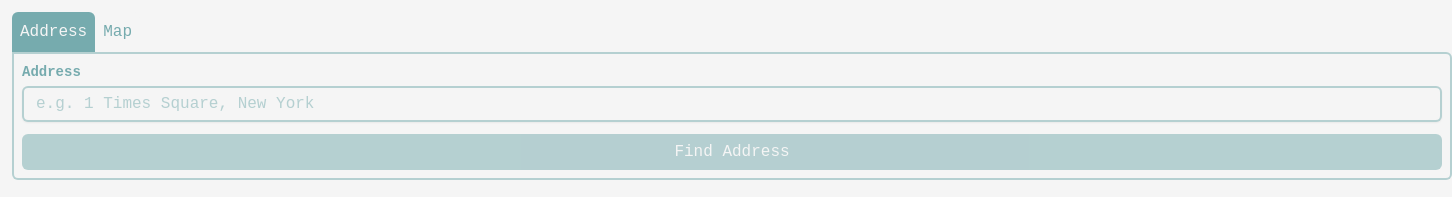
Test: LocationPicker address tab › disables Find Address when the input is empty and enables it after typing
Check: the button "Find Address" is disabled, box [22,134,1442,170]
In the field labelled "Address": (732, 104) [22,86,1442,122], type "Times Square"
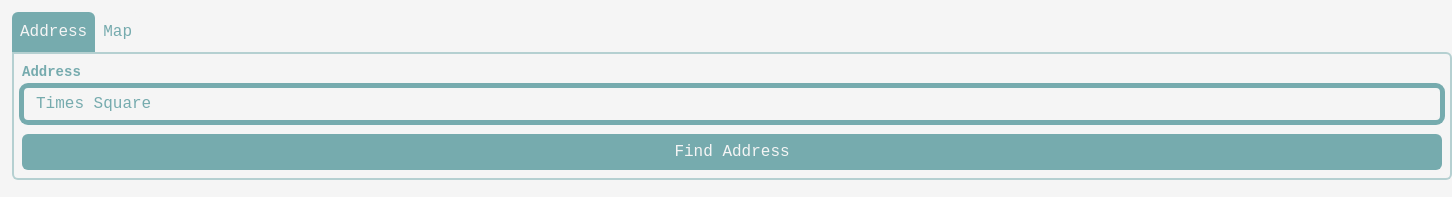
Check: the button "Find Address" is enabled, box [22,134,1442,170]
